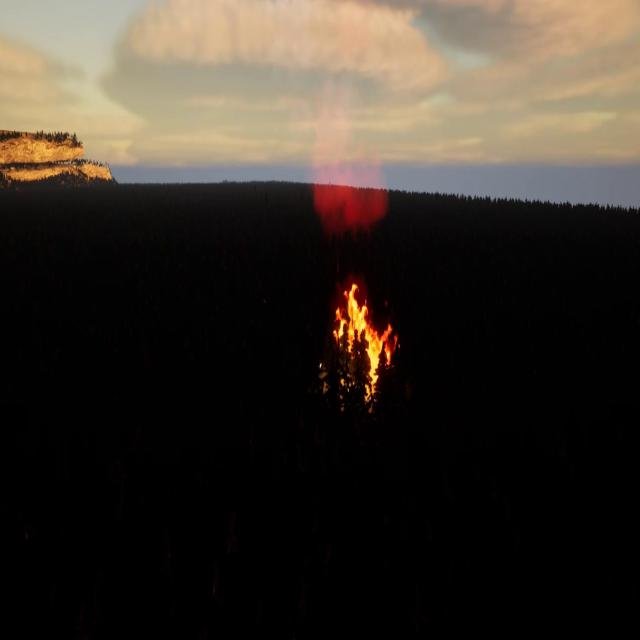fire: (334, 282, 401, 402)
smoke: (313, 87, 391, 234)
